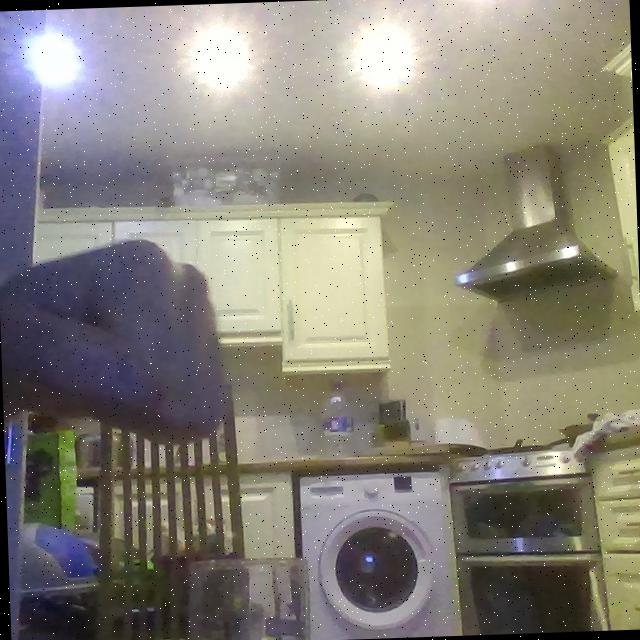rock: (0, 222, 233, 464)
